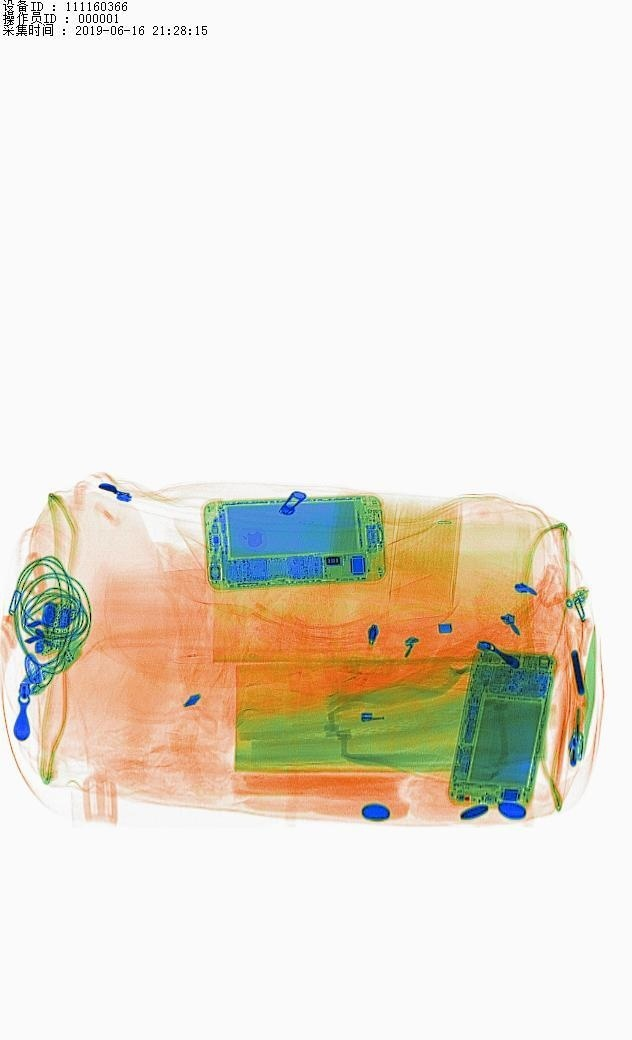NonmetallicFire: (545, 654, 619, 787)
